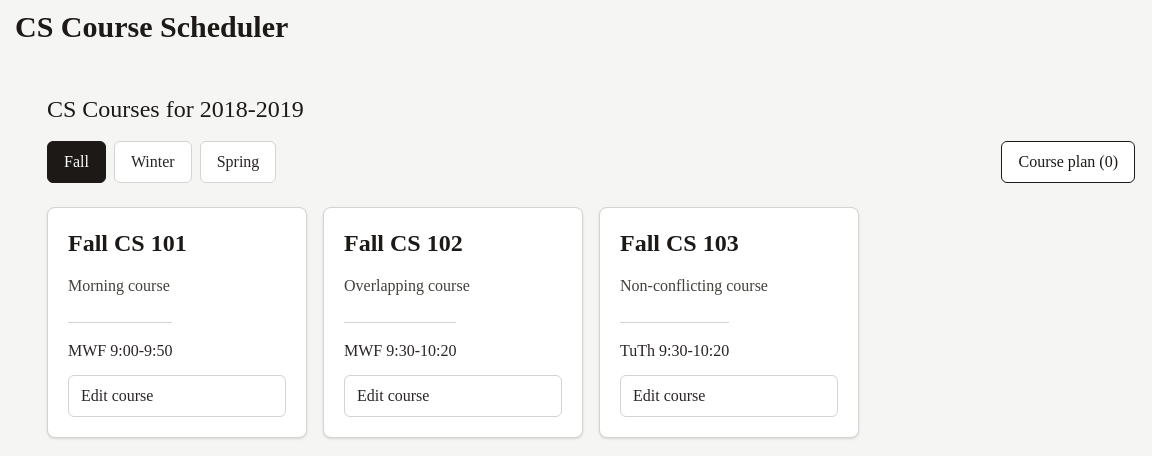
App › prevents conflicting selections and makes courses available after unselecting
The image size is (1152, 456).
Click the button "Fall CS 101 Morning course MWF 9:00-9:50". click: (177, 296)
box: [68,228,286,363]
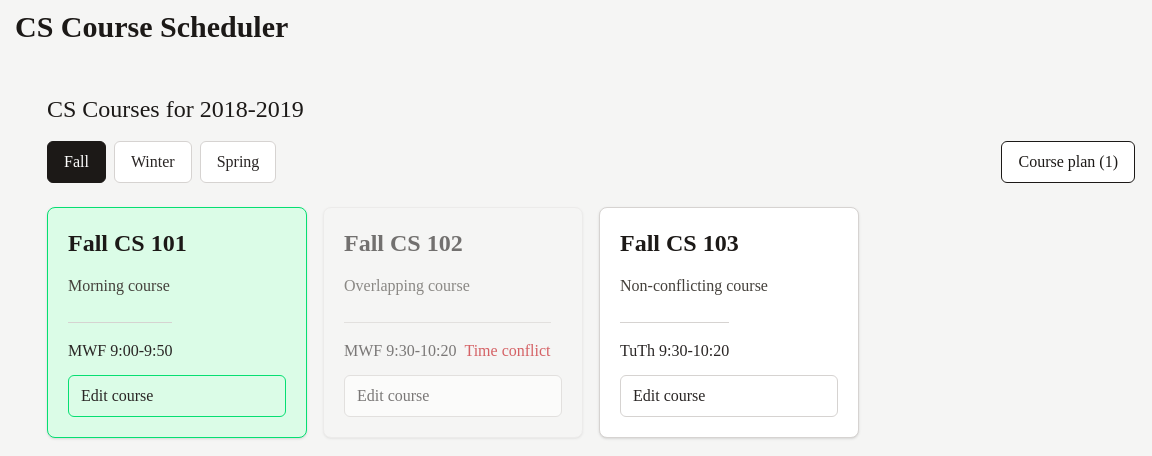
Expected: the button "Fall CS 103" is enabled, [620,228,838,363]
Result: the button "Fall CS 102" is disabled at [344,228,562,363]
Result: the text "Time conflict" is shown at [464,342,551,359]
Click the button "Fall CS 101 Morning course MWF 9:00-9:50". click: (177, 296)
box: [68,228,286,363]
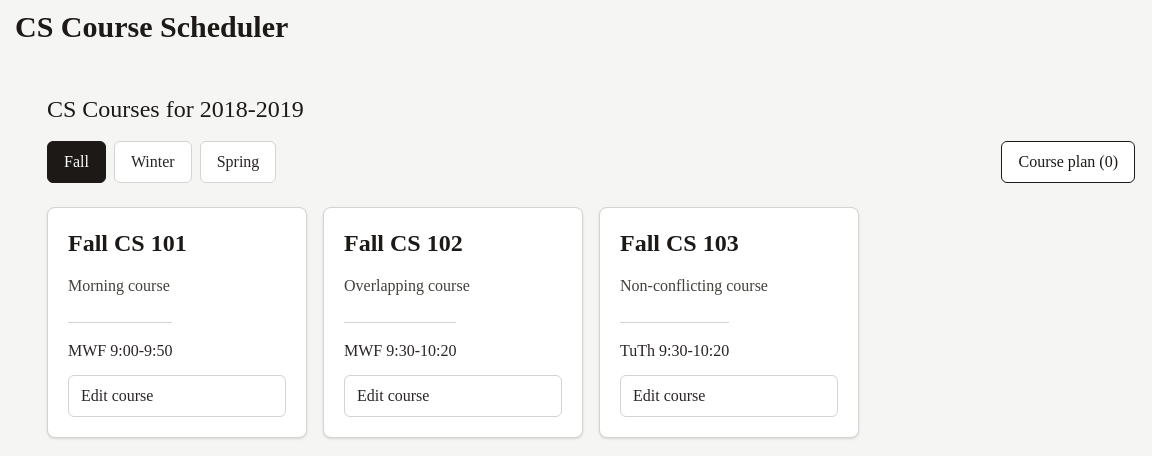
Result: the button "Fall CS 102" is enabled at [344,228,562,363]
Result: the text "Time conflict" is gone
